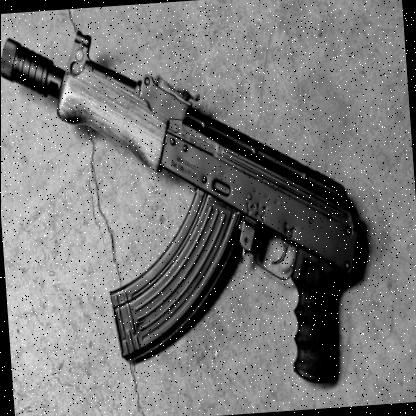rifle: (0, 0, 392, 409)
